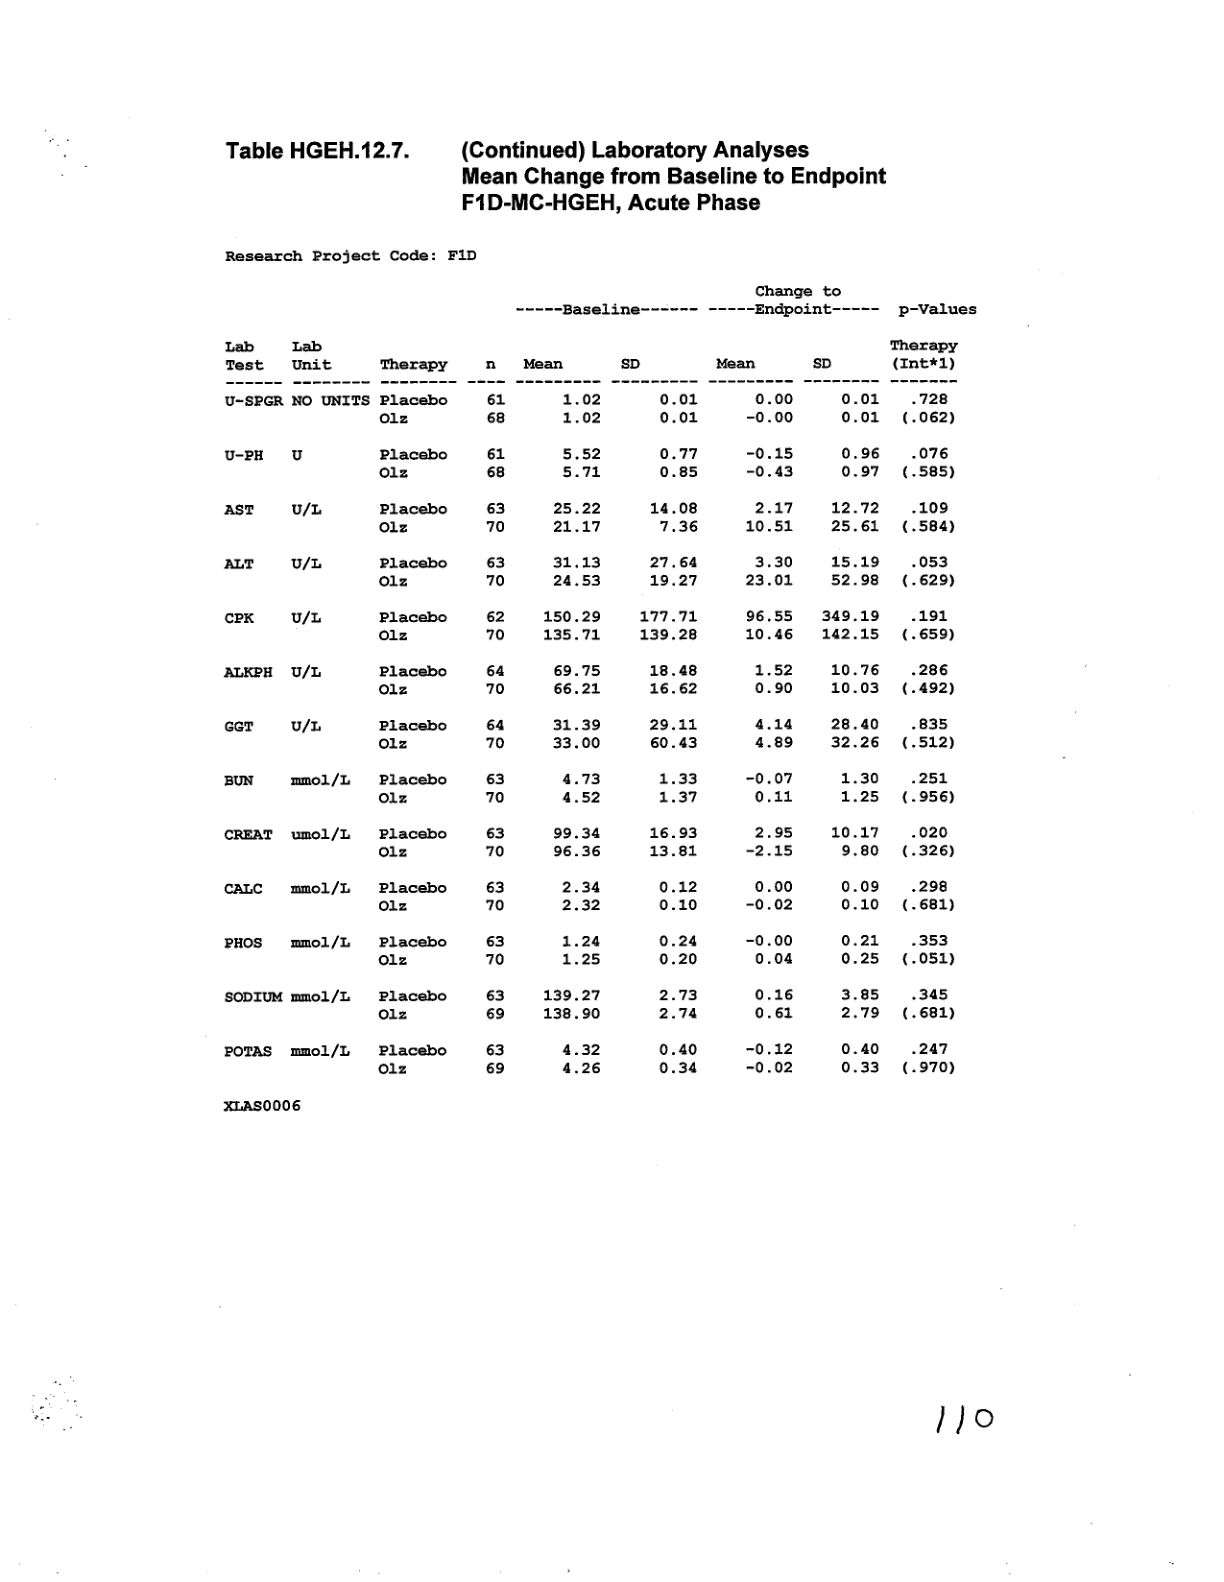nolines: (218, 277, 980, 1115)
